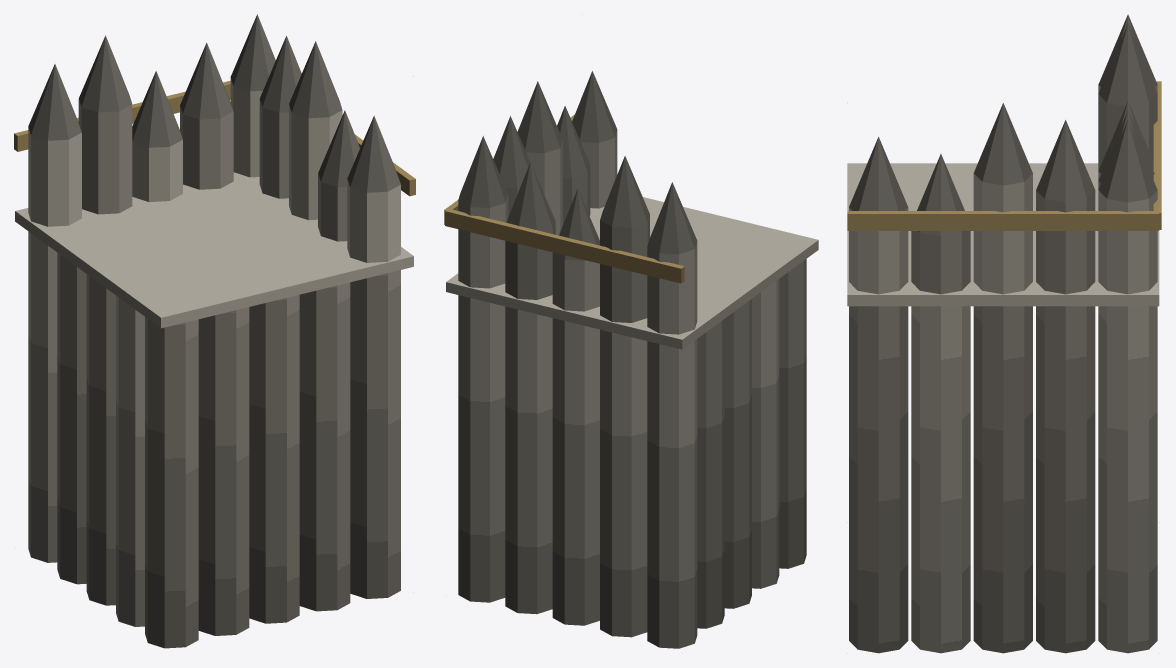
File: perimeter_wall_stone_f12.glb
3 renders of one model, left to right at view 1: azimuth 30°, elevation 25°; view 2: azimuth 150°, elevation 25°; view 3: azimuth 270°, elevation 25°, orthographic. The views are drawn at different scales.
Size of the model in its own units: 2.01 by 3.9 by 2.01.
1 material, 1 textured.
